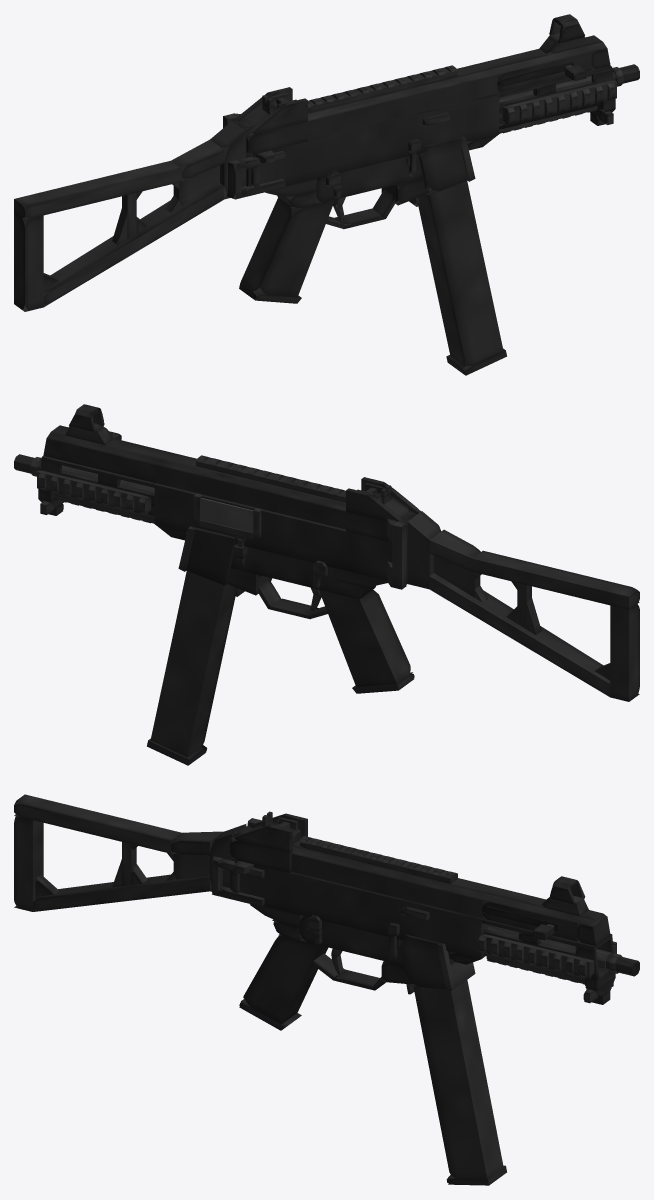
The model's file is ump45.obj.
3 renders of one model, top to bottom at view 1: azimuth 30°, elevation 25°; view 2: azimuth 150°, elevation 25°; view 3: azimuth 330°, elevation 25°, orthographic.
Visible parts, largest first — view 1: ammoModel0, gunModel0, gunModel87, gunModel109, gunModel106, gunModel23, gunModel1, gunModel108, gunModel2, gunModel89, gunModel110, gunModel9 (+15 smaller); view 2: ammoModel0, gunModel0, gunModel87, gunModel109, gunModel106, gunModel23, gunModel1, gunModel108, gunModel2, gunModel89, gunModel110, gunModel8 (+15 smaller); view 3: ammoModel0, gunModel0, gunModel87, gunModel106, gunModel23, gunModel1, gunModel109, gunModel108, gunModel2, gunModel89, gunModel9, gunModel90 (+11 smaller).
Part boxes in pixels (<box>): ammoModel0: <box>418,181,503,369</box>; gunModel0: <box>246,93,499,189</box>; gunModel87: <box>240,196,334,297</box>; gunModel109: <box>43,183,224,306</box>; gunModel106: <box>14,160,181,219</box>; gunModel23: <box>235,35,607,136</box>; gunModel1: <box>246,75,497,162</box>; gunModel108: <box>14,209,43,311</box>; gunModel2: <box>316,152,424,202</box>; gunModel89: <box>418,137,469,195</box>; gunModel110: <box>210,121,246,199</box>; gunModel9: <box>308,67,457,112</box>; ammoModel0: <box>150,571,235,757</box>; gunModel0: <box>154,483,407,584</box>; gunModel87: <box>319,589,412,687</box>; gunModel109: <box>429,573,610,696</box>; gunModel106: <box>472,550,639,609</box>; gunModel23: <box>46,425,418,523</box>; gunModel1: <box>156,465,345,529</box>; gunModel108: <box>610,604,639,701</box>; gunModel2: <box>231,544,337,593</box>; gunModel89: <box>186,527,235,585</box>; gunModel110: <box>407,511,441,589</box>; gunModel8: <box>62,442,156,482</box>; ammoModel0: <box>413,980,503,1178</box>; gunModel0: <box>230,861,489,959</box>; gunModel87: <box>241,935,328,1024</box>; gunModel106: <box>14,794,181,853</box>; gunModel23: <box>233,826,607,927</box>; gunModel1: <box>232,854,484,918</box>; gunModel109: <box>33,874,211,911</box>; gunModel108: <box>14,815,43,911</box>; gunModel2: <box>300,916,455,965</box>; gunModel89: <box>400,934,445,989</box>; gunModel9: <box>300,838,457,883</box>; gunModel90: <box>230,832,291,872</box>.
Size of the model in its own units: 19.65 by 9.86 by 2.
